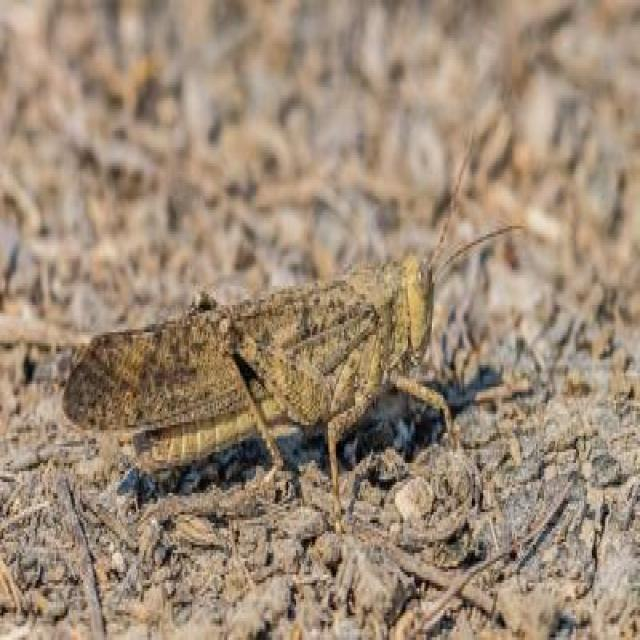antennae: (426, 228, 524, 284), (429, 143, 472, 269)
body: (142, 252, 435, 472)
insect: (56, 138, 528, 515)
legs: (216, 319, 331, 489), (331, 348, 387, 517), (391, 361, 457, 449)
mouthpart: (406, 336, 432, 364)
wings: (60, 284, 354, 428)
